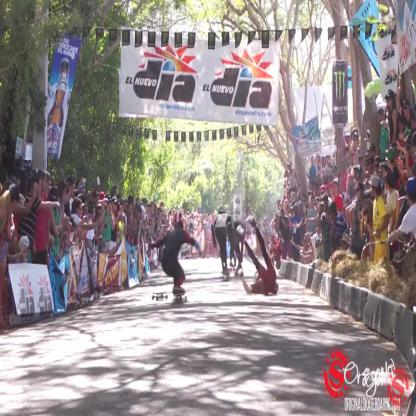Fall_Down: (235, 212, 281, 299)
